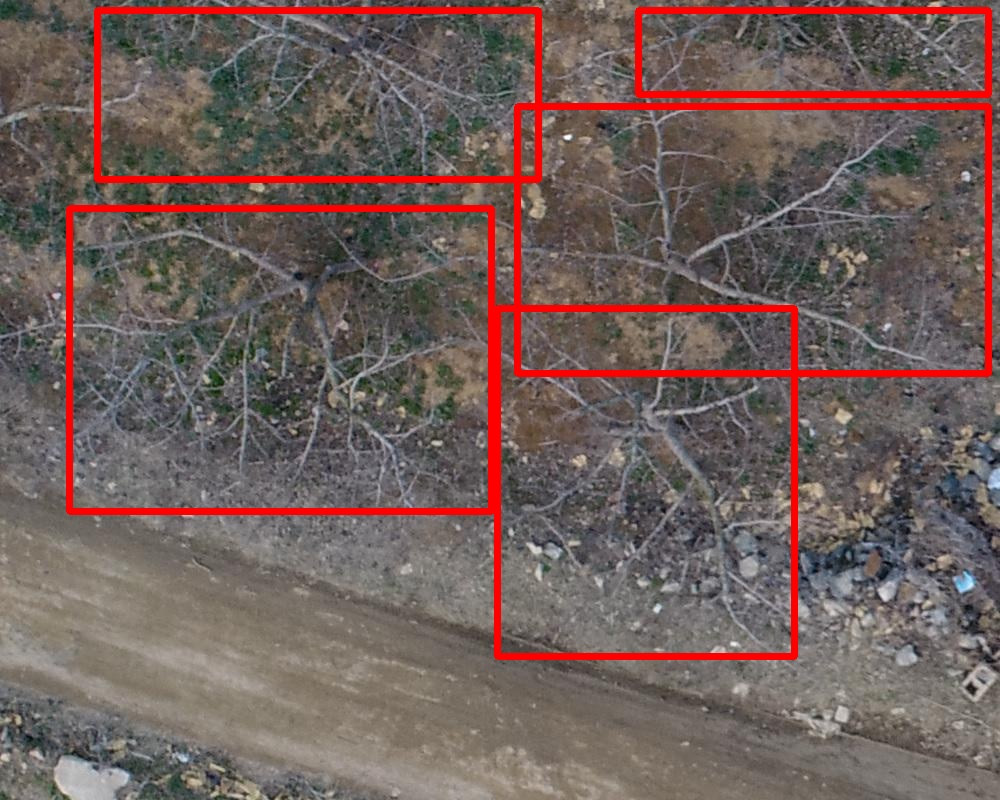apple: (69, 208, 491, 511), (517, 106, 988, 373), (497, 308, 794, 656), (97, 10, 538, 179), (638, 10, 988, 94)
